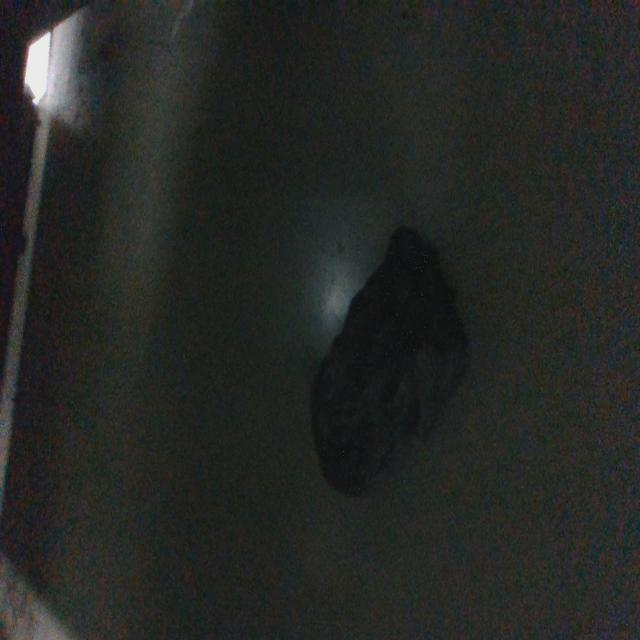stone: (308, 220, 473, 500)
